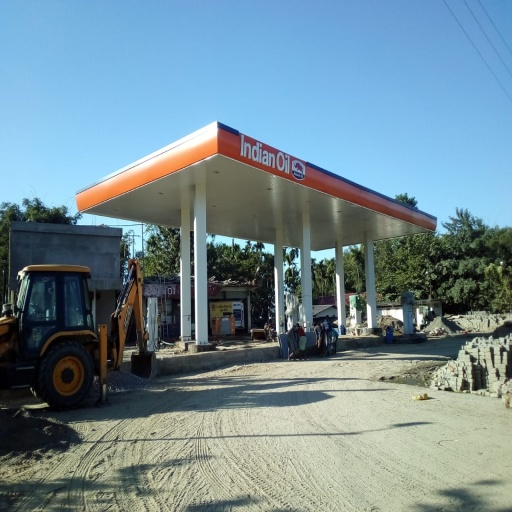roof: (76, 122, 436, 251)
